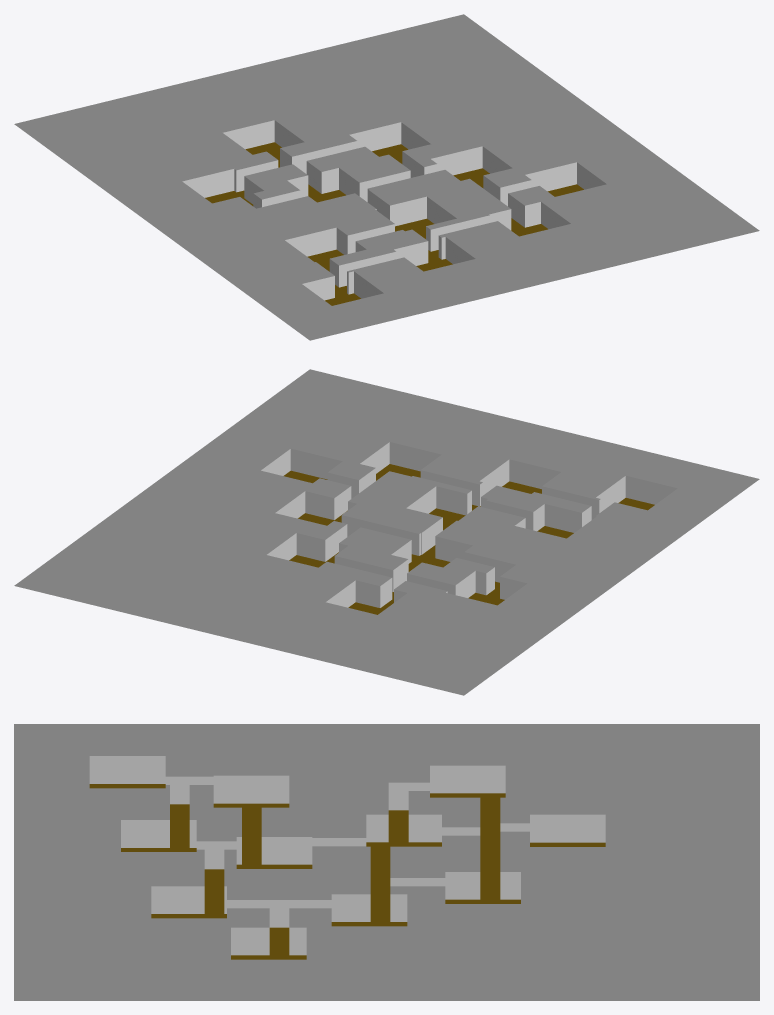
The model's file is LD38-world.fbx.
3 renders of one model, top to bottom at view 1: azimuth 30°, elevation 25°; view 2: azimuth 150°, elevation 25°; view 3: azimuth 270°, elevation 25°, orthographic. The views are drawn at different scales.
Parts seen in each view (by area): view 1: Model; view 2: Model; view 3: Model.
Part boxes in pixels (x1=…): Model: x1=14, y1=14, x2=759, y2=340; Model: x1=14, y1=369, x2=759, y2=695; Model: x1=14, y1=724, x2=759, y2=1000.
Size of the model in its own units: 43.21 by 2.02 by 49.23.
